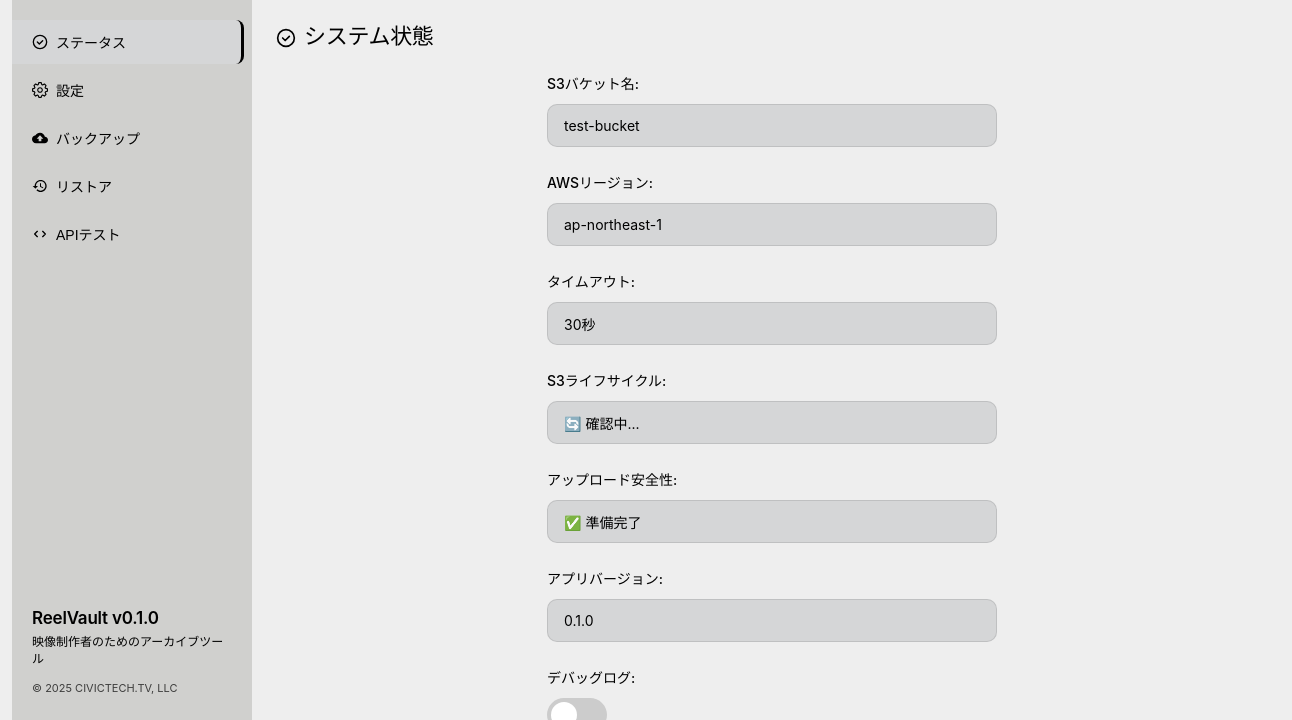
Scenario: ConfigManager › should switch to restore tab when restore button is clicked
Click the button "リストア" at (128, 186), box [12,164,244,208]
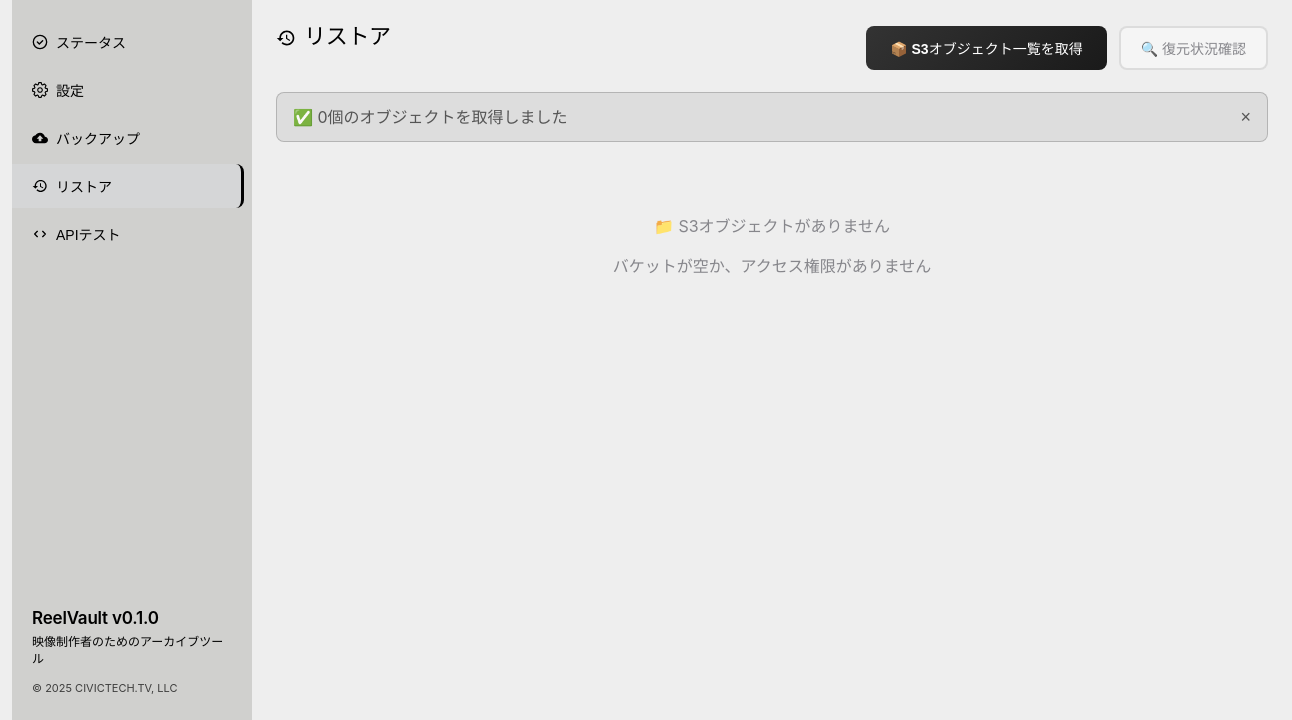
Now the button "📦 S3オブジェクト一覧を取得" is shown, box [866,26,1107,70]
